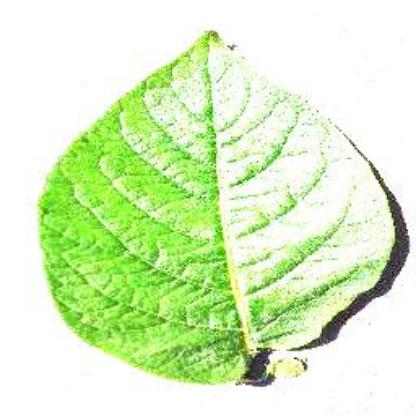Healthy-plant: (37, 27, 397, 387)
